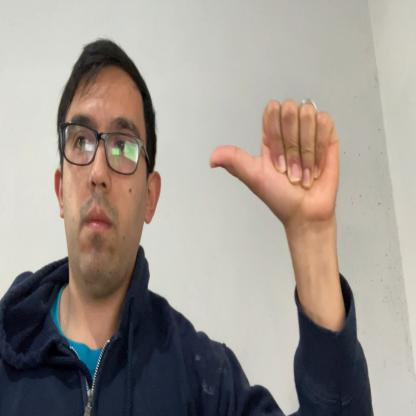A: (209, 97, 341, 222)
